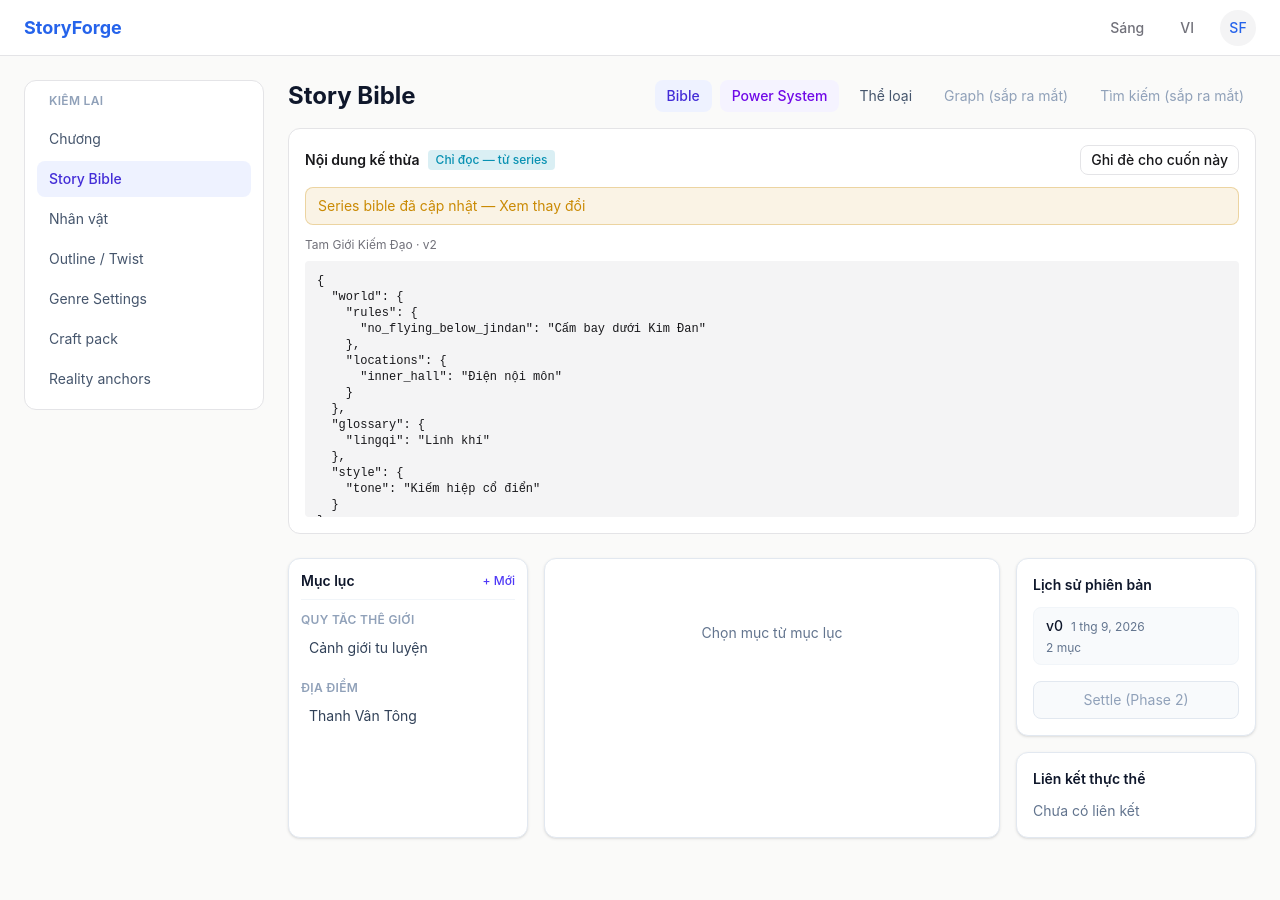
Test case: StoryBiblePage › cancels edit mode
This screenshot has width=1280, height=900.
Step 1. Click the button "Cảnh giới tu luyện" → [408, 648], box x1=301 y1=632 x2=515 y2=664
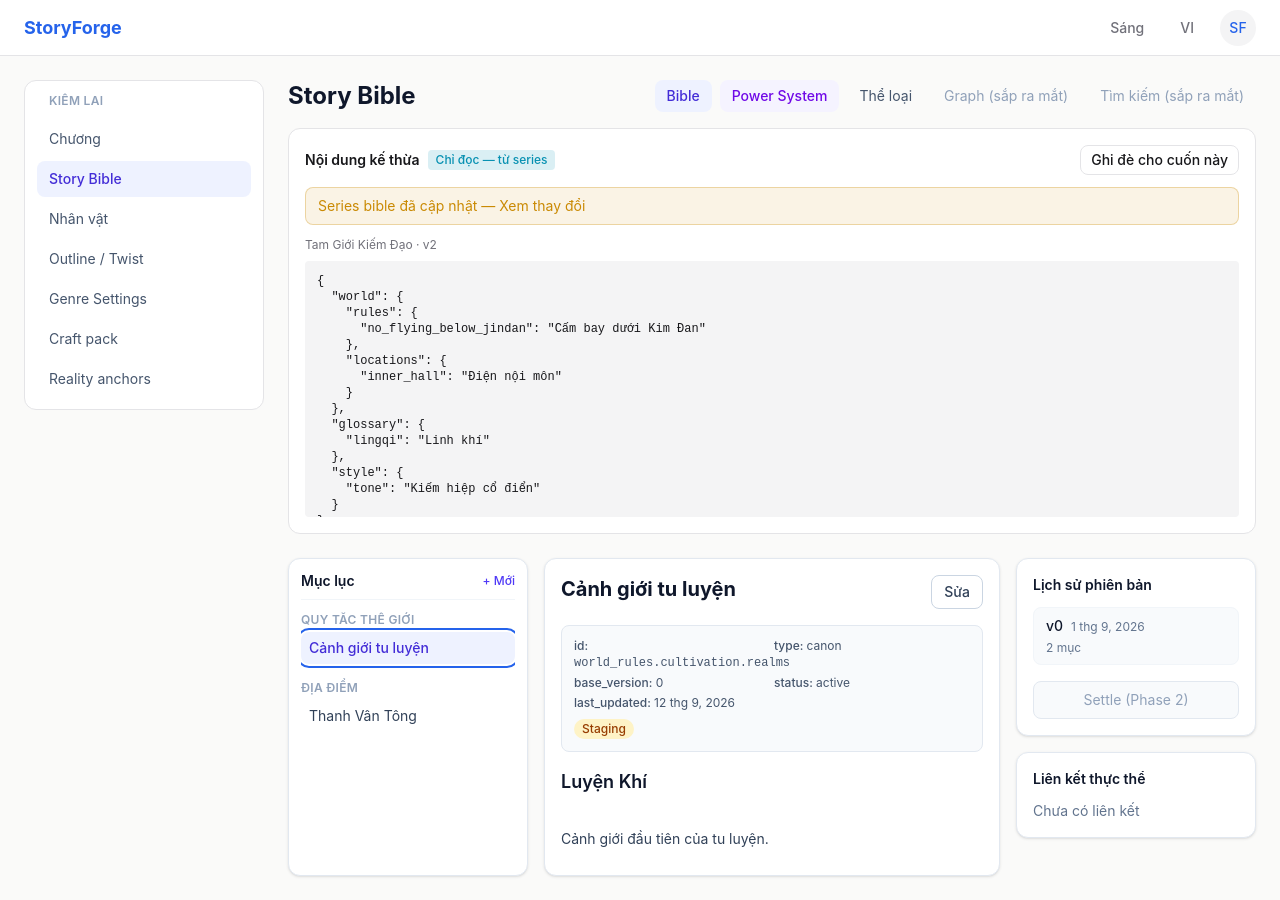
Step 2. Click the button "Sửa" → [957, 592], box x1=931 y1=575 x2=983 y2=609
(page scrolled)
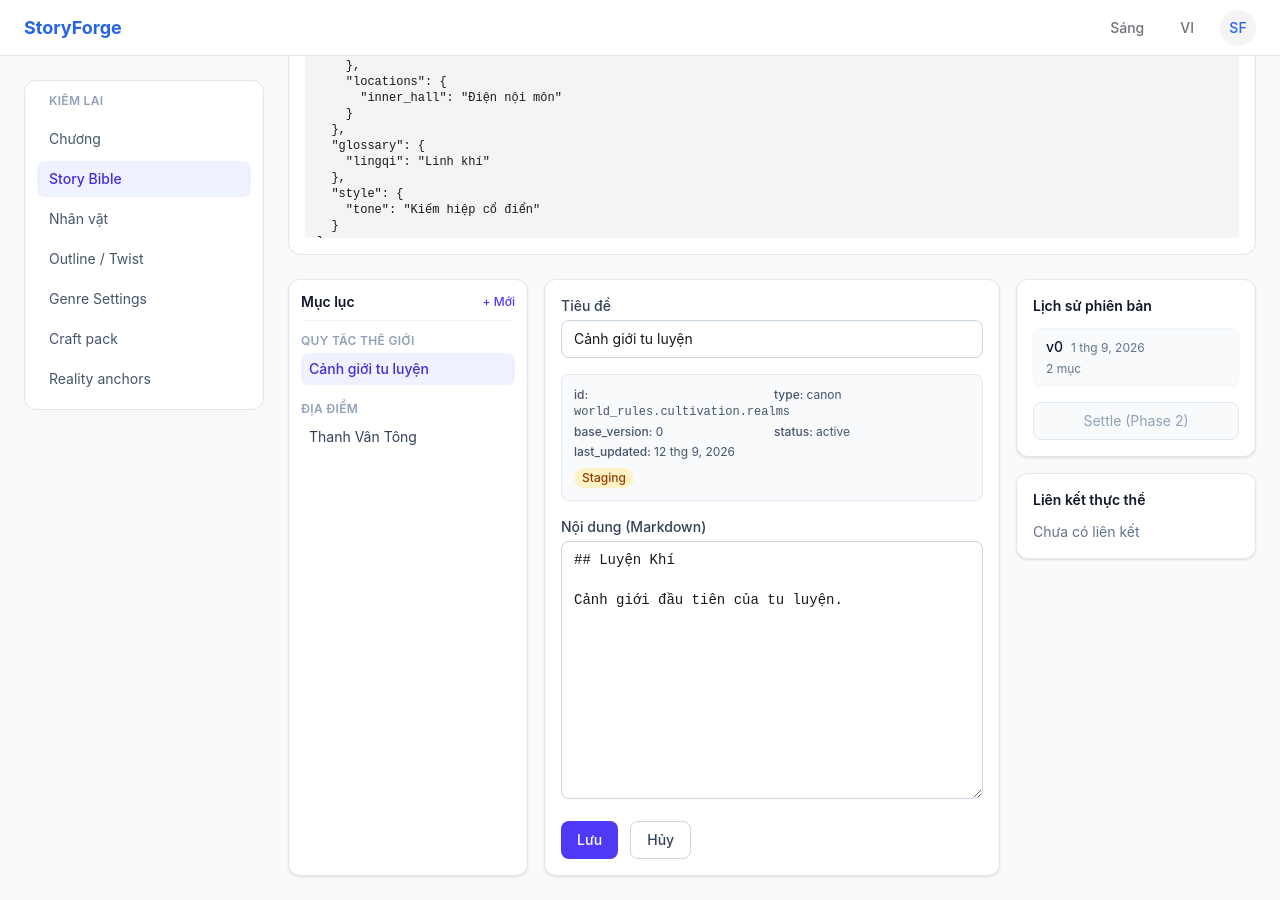
Step 3. Click the button "Hủy" → [661, 840], box x1=630 y1=821 x2=691 y2=859
(page scrolled)
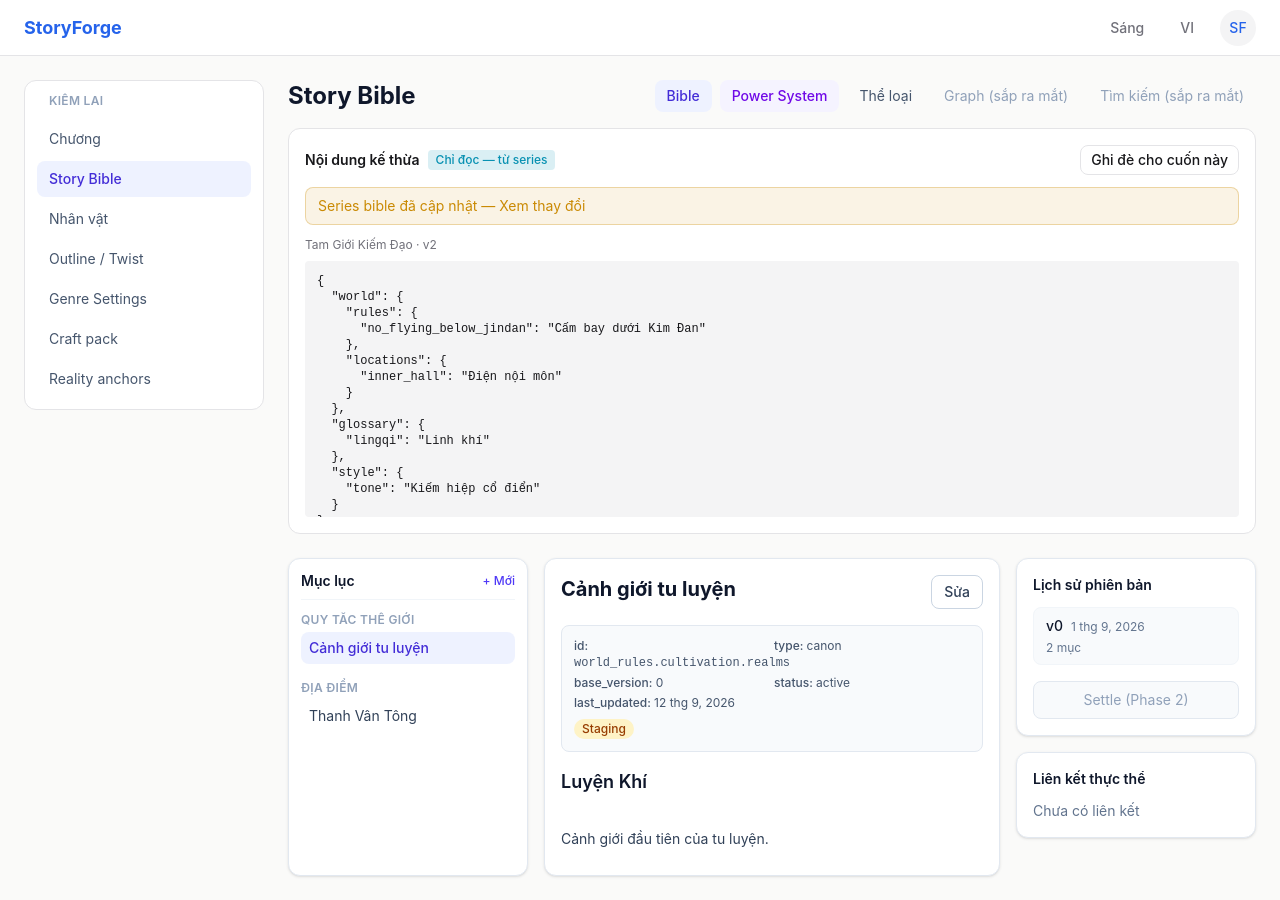
Result: the button "Sửa" is shown at x1=931 y1=575 x2=983 y2=609
